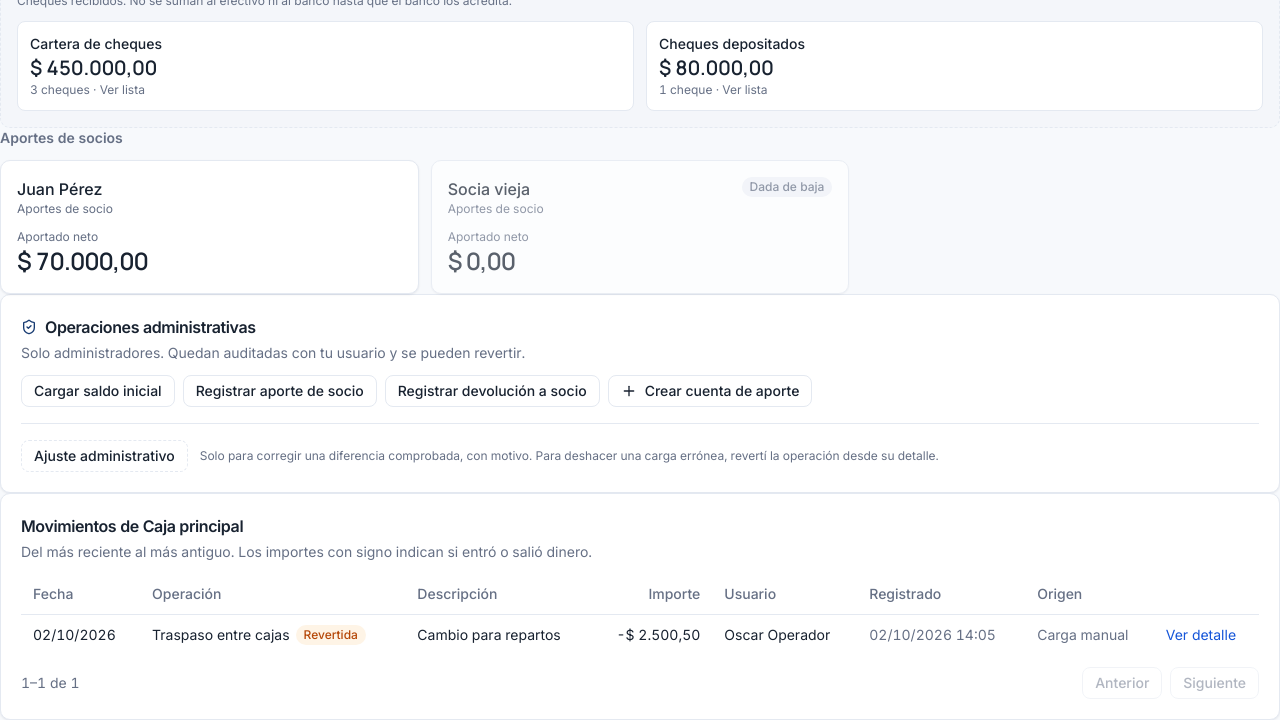
Scenario: CashBoard › sends an adjustment with its sign and a mandatory reason, set apart as administrative
(page scrolled)
Click the button "Ajuste administrativo" at [104, 456], box [21,440,188,472]
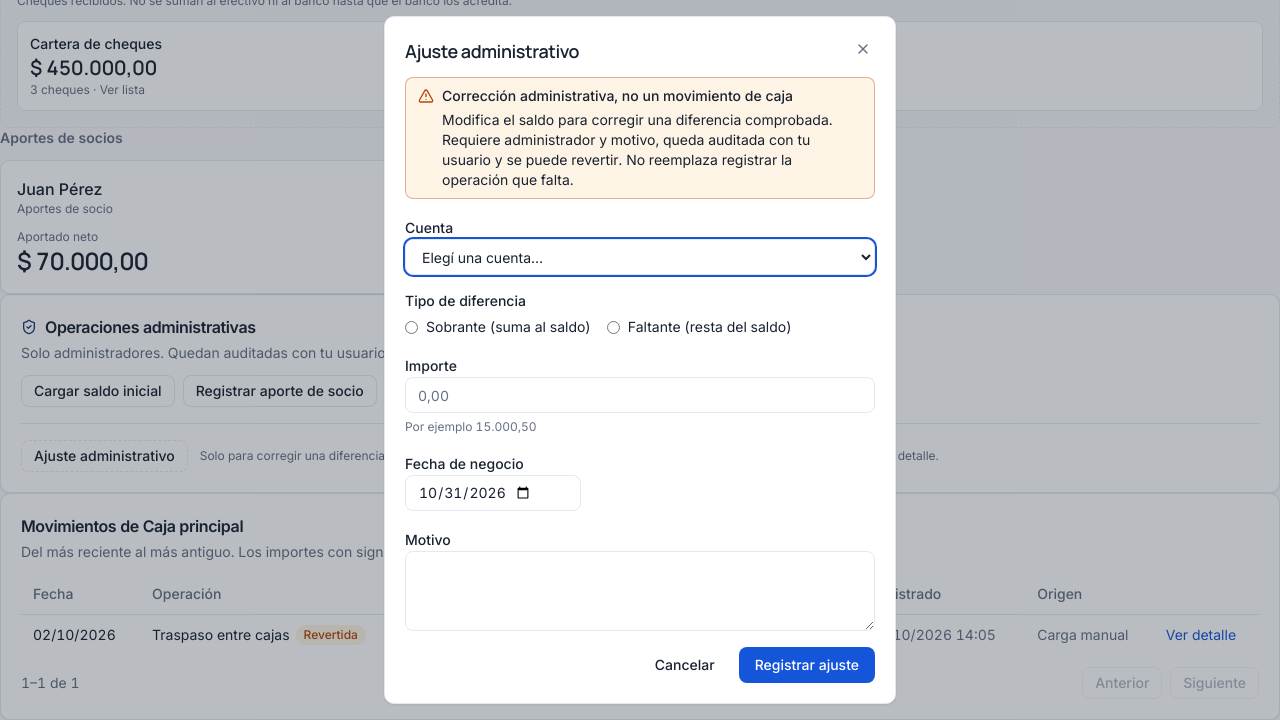
Now the dialog "Ajuste administrativo" shows "Corrección administrativa, no un movimiento de caja", box [442,87,793,104]
Now the dialog "Ajuste administrativo" shows "Requiere administrador y motivo, queda auditada", box [442,111,832,188]
Select "Caja principal · saldo $ 150.000,00" in the dropdown labelled "Cuenta" at [640, 257], box [405,239,875,275]
Click the radio button labelled "Faltante (resta del saldo)" at [613, 327], box [607,320,620,334]
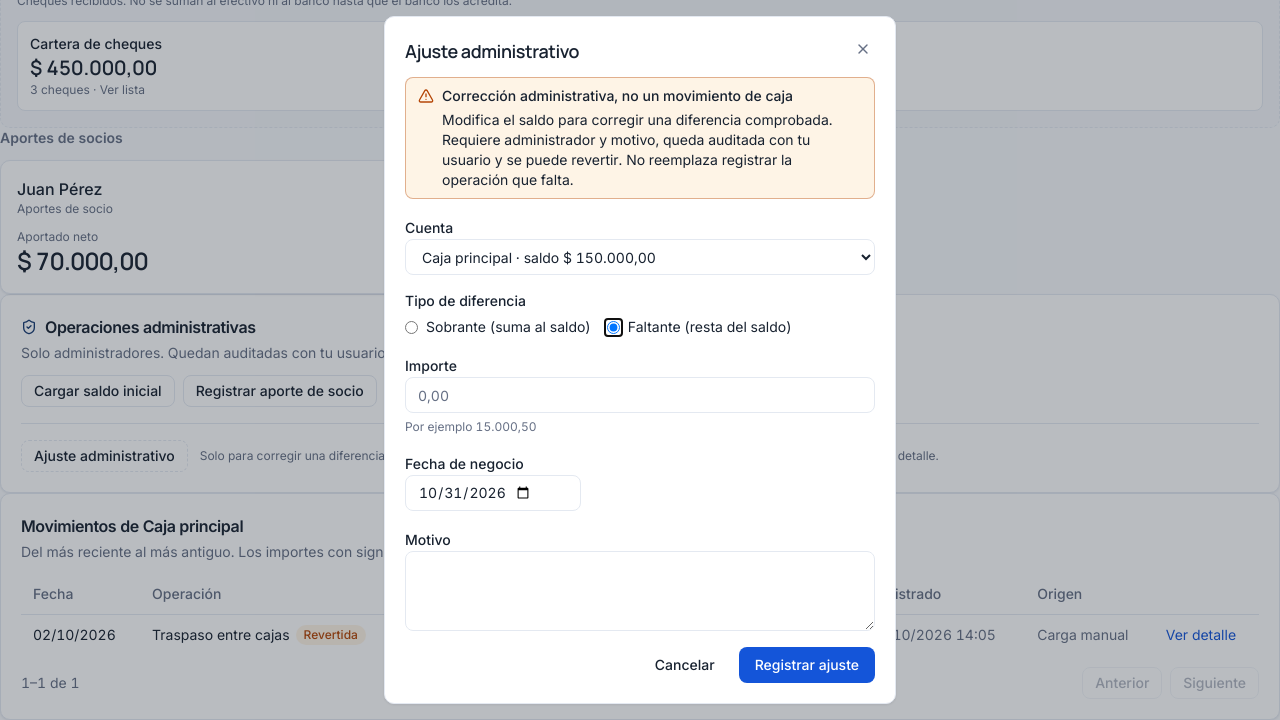
Type "250" into the field labelled "Importe" at [640, 395], box [405,377,875,413]
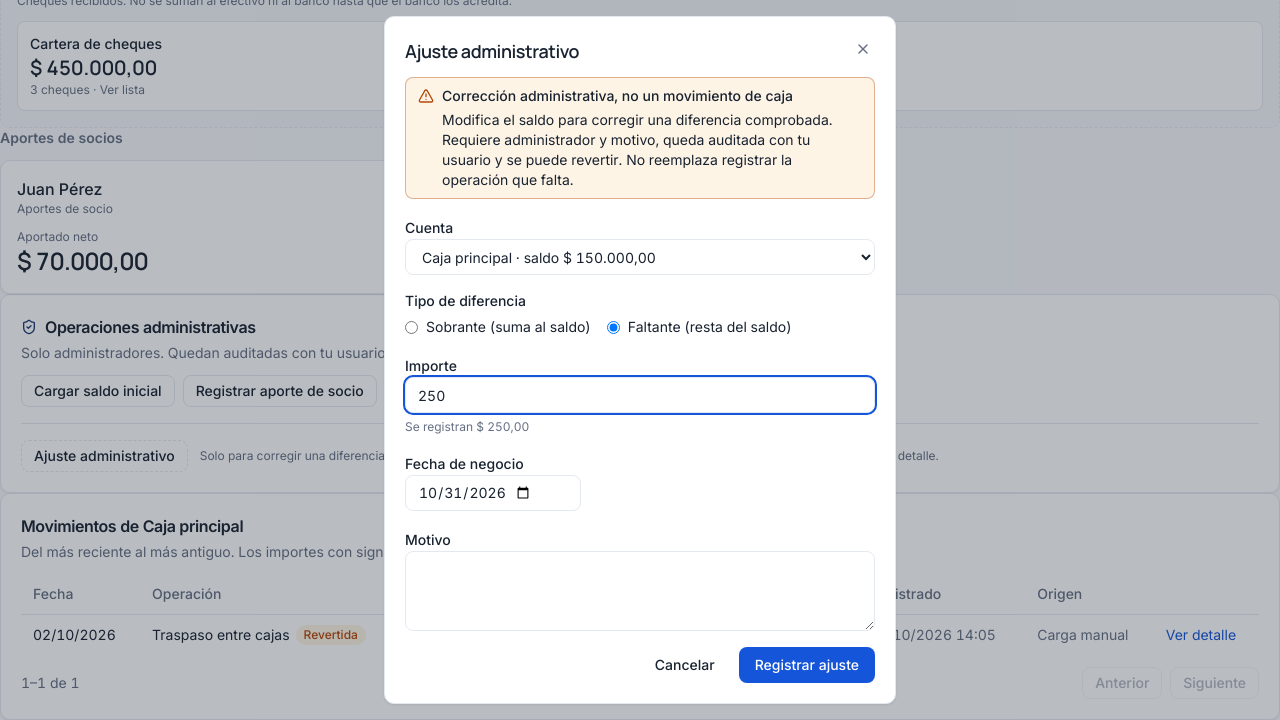
Click the button "Registrar ajuste" at [807, 665], box [739,647,875,683]
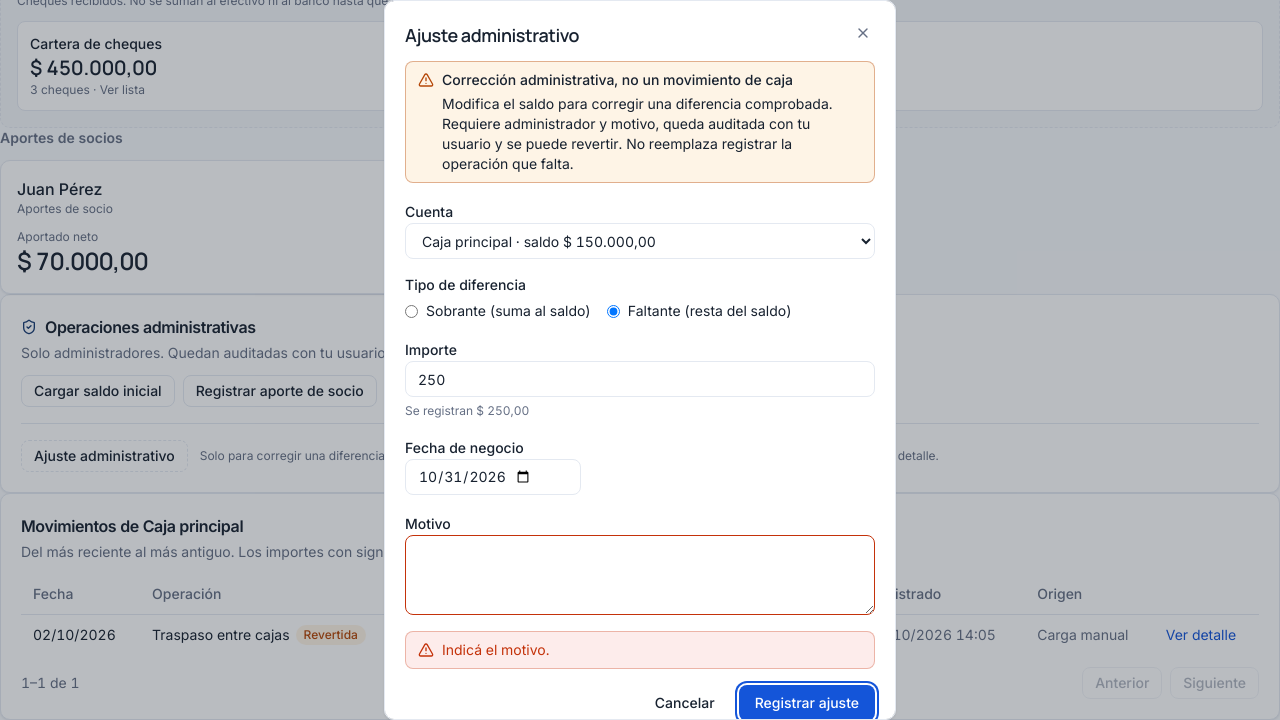
Now the message reads "Indicá el motivo.", box [442,641,550,658]
Type "Faltante en arqueo" into the text box labelled "Motivo" at [640, 575], box [405,535,875,615]
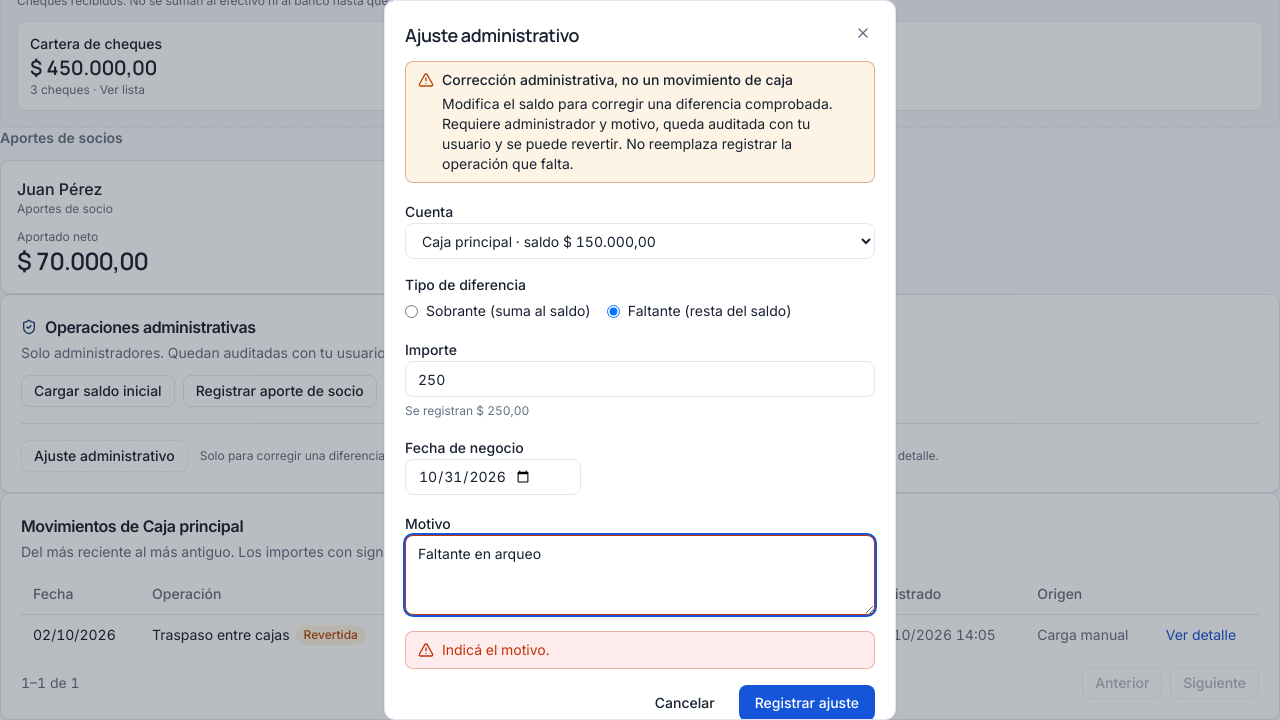
Click the button "Registrar ajuste" at [807, 703], box [739,685,875,719]
(page scrolled)
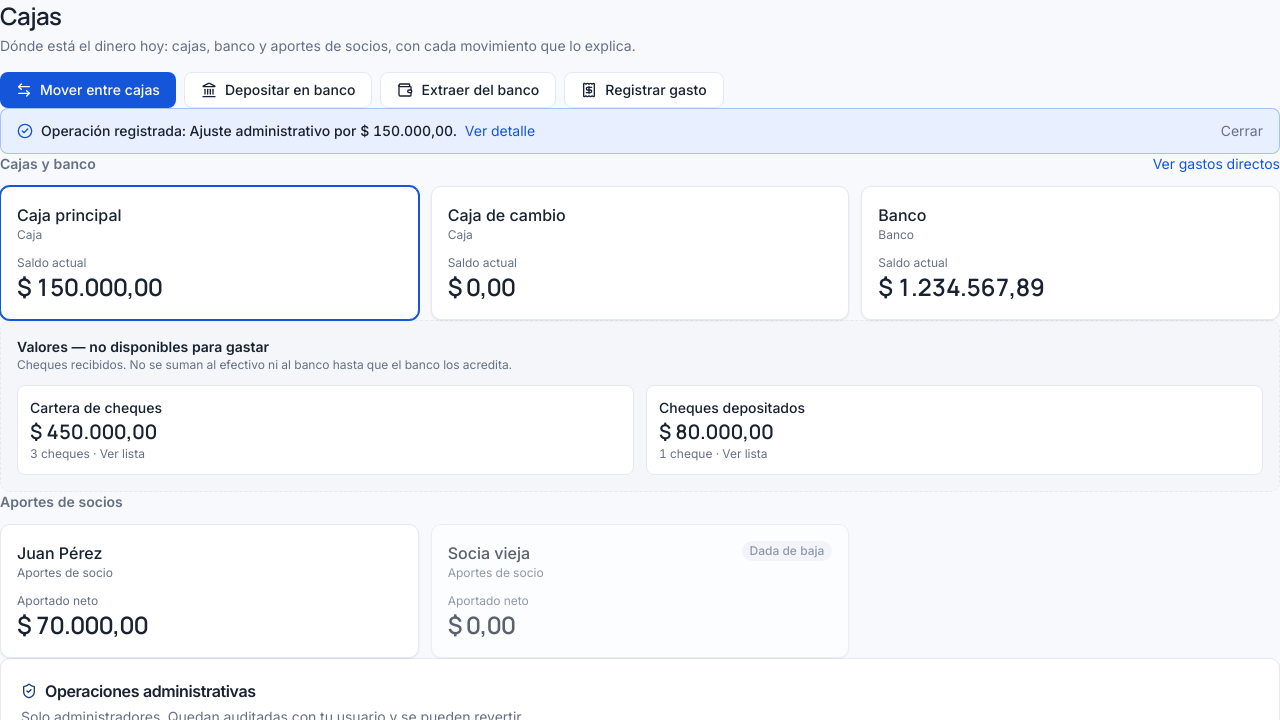
Now the message is shown, box [0,108,1279,154]
